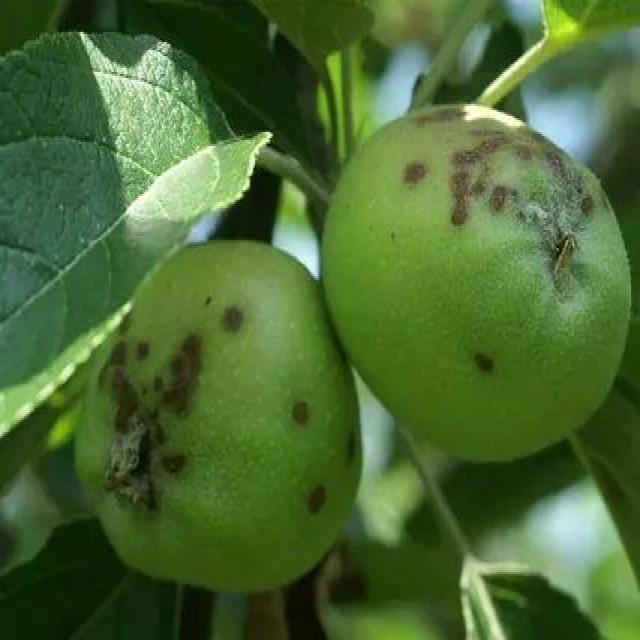Rotten: (330, 90, 630, 484), (76, 234, 360, 566)
